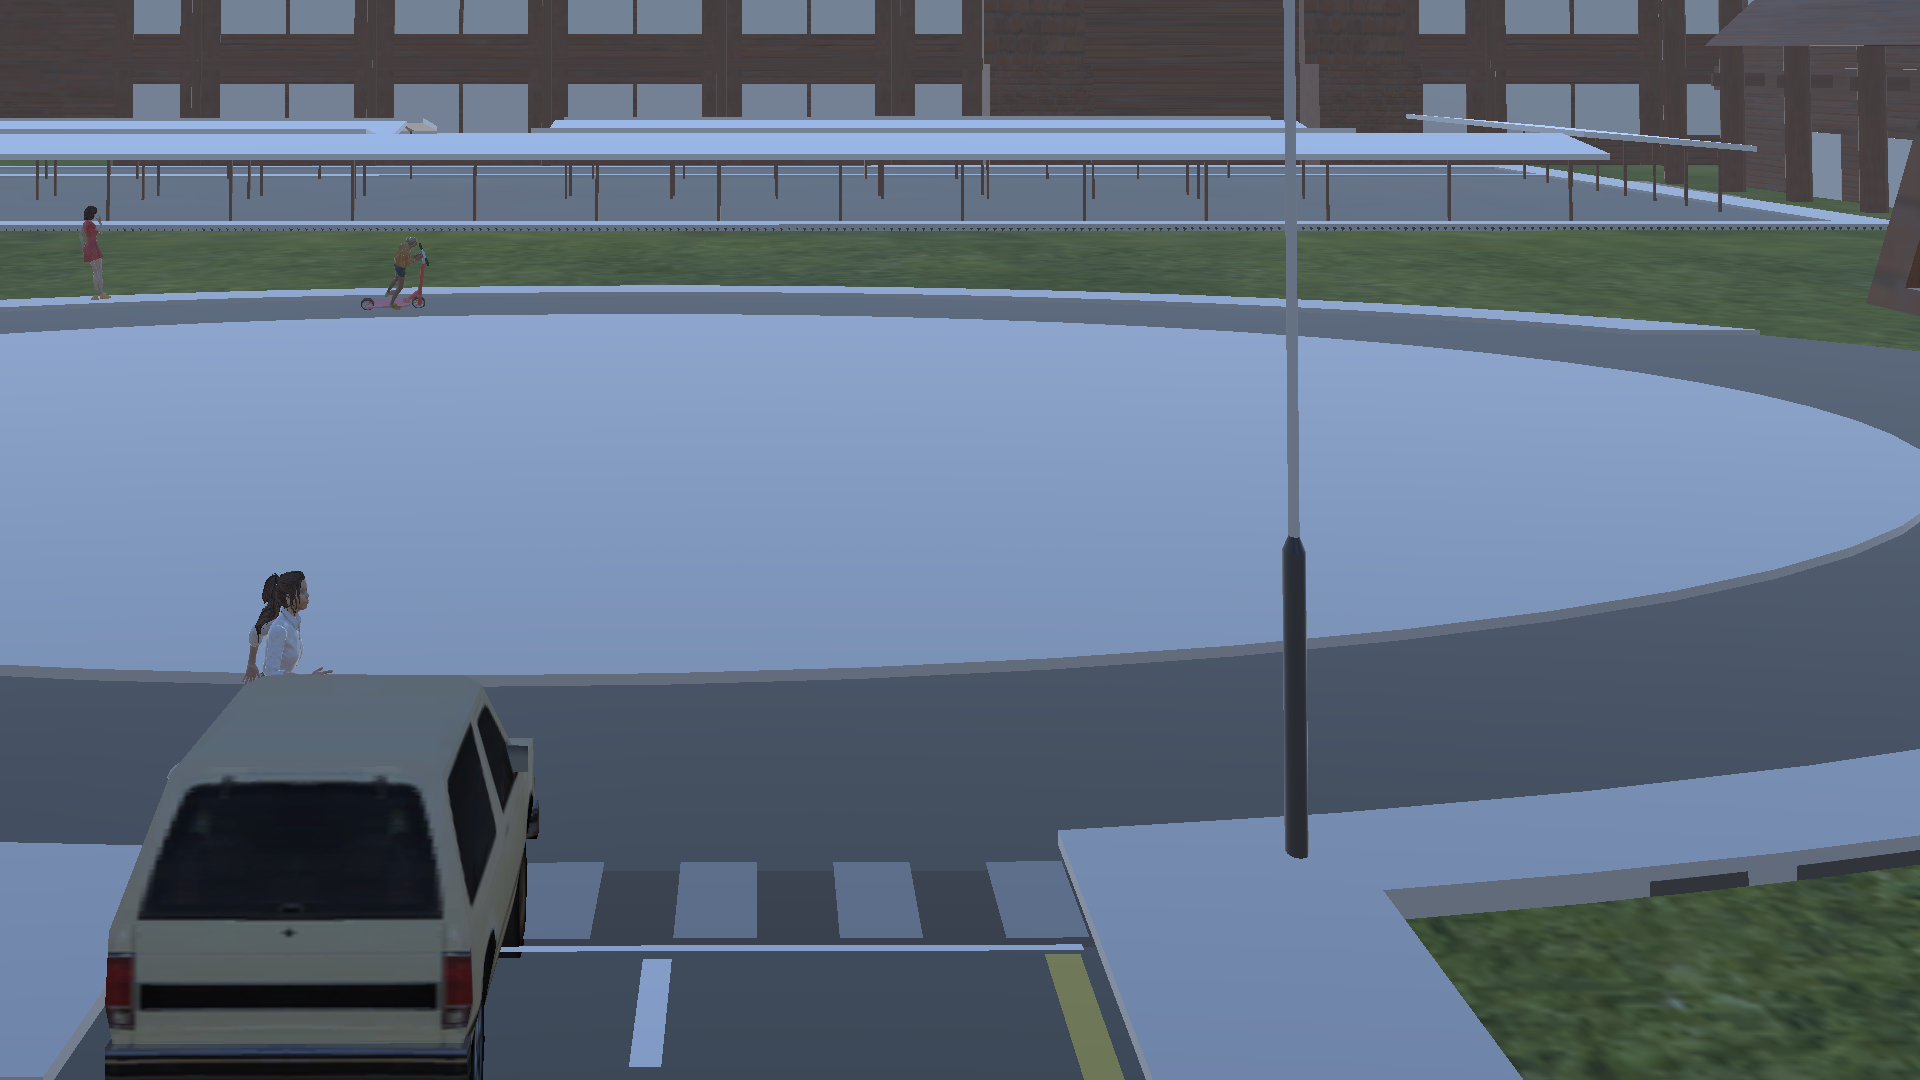pedestrian: (231, 565, 345, 681), (70, 201, 133, 308)
